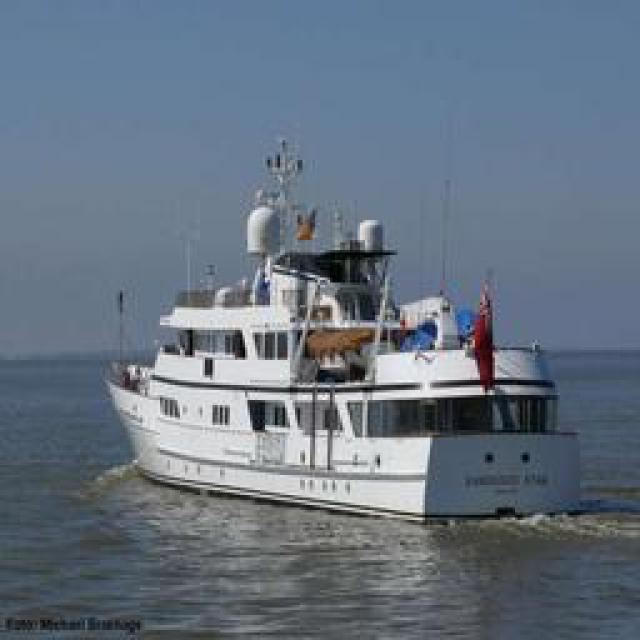Ship: (109, 131, 602, 529)
